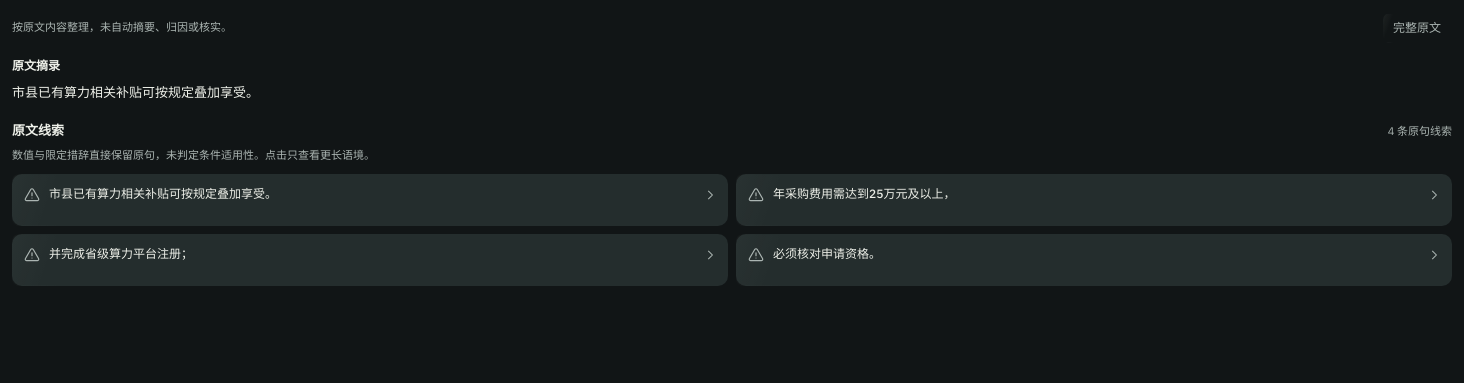
Test: keeps stacking and platform registration conditions visible as untouched source cards
Check: the button "市县已有算力相关补贴可按规定叠加享受。" is shown, box left=12, top=174, right=728, bottom=226
Check: the button "年采购费用需达到25万元及以上，" is shown, box left=736, top=174, right=1452, bottom=226
Click the button "并完成省级算力平台注册；" at (121, 254), box left=12, top=234, right=728, bottom=286
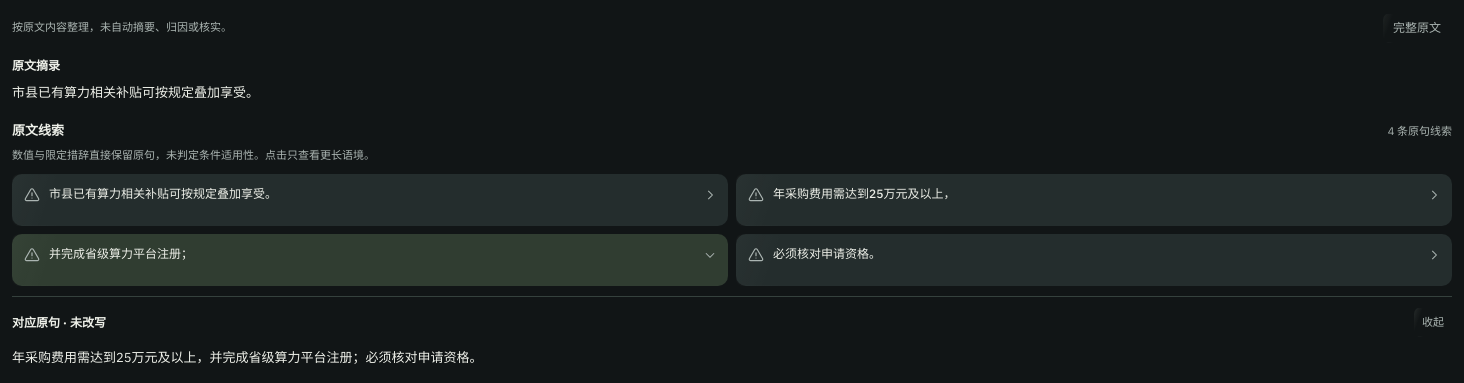
Check: the text "年采购费用需达到25万元及以上，并完成省级算力平台注册；必须核对申请资格。" is shown, box left=12, top=349, right=483, bottom=366
